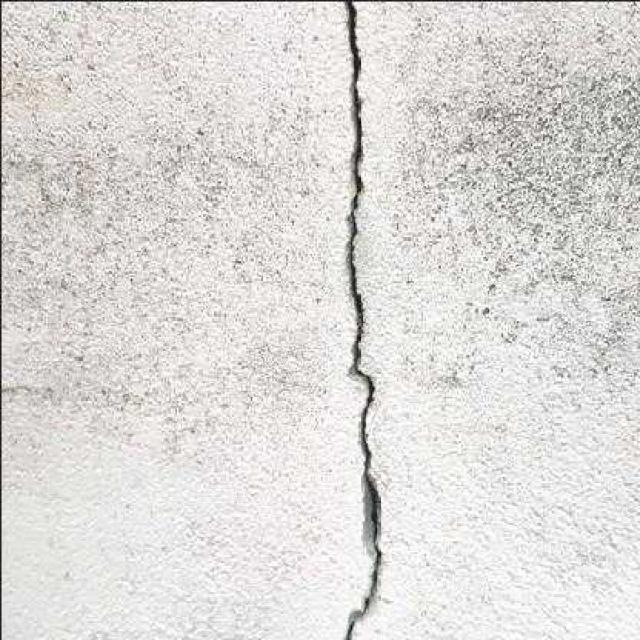D00: (343, 0, 381, 640)
